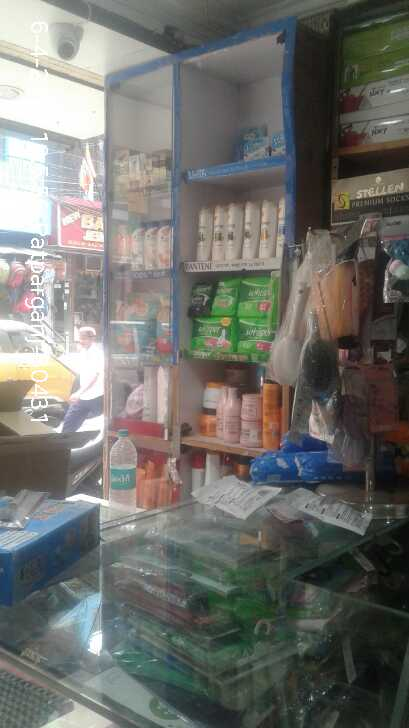venus: (243, 136, 267, 157), (271, 131, 286, 154)
